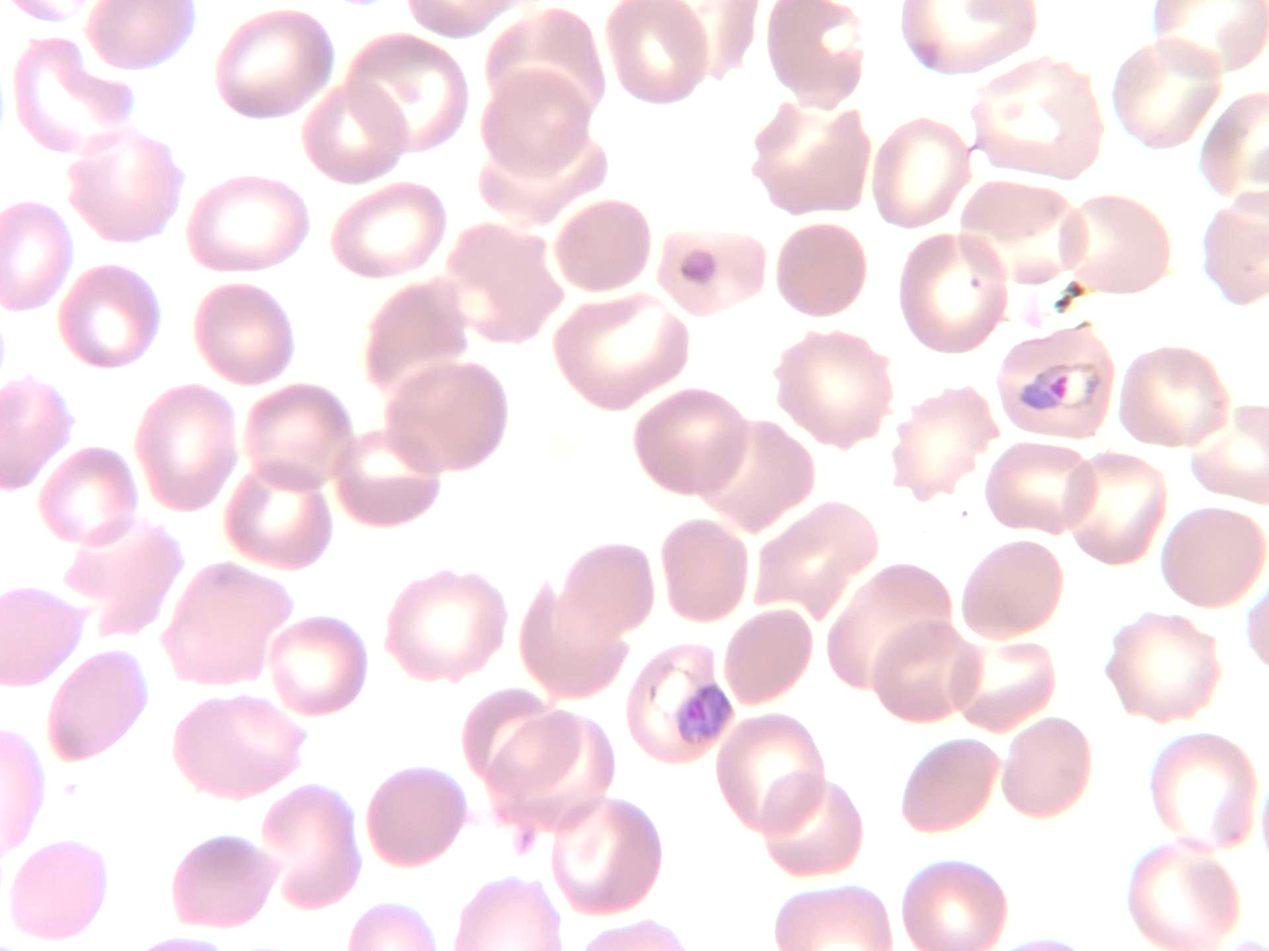Infected: (1000, 318, 1122, 448), (619, 642, 736, 766)
Uninfected: (974, 54, 1099, 180), (348, 34, 467, 158), (489, 714, 608, 835), (174, 558, 288, 683), (756, 499, 869, 621), (13, 40, 131, 155), (564, 298, 684, 411), (445, 225, 560, 342), (780, 340, 896, 453), (1124, 340, 1235, 458), (44, 646, 150, 768), (712, 721, 820, 840), (66, 516, 170, 639), (1150, 730, 1254, 853), (386, 364, 505, 470), (555, 789, 659, 910), (366, 276, 469, 398), (137, 384, 238, 508), (903, 228, 1009, 346), (176, 699, 301, 799), (214, 14, 335, 117), (965, 181, 1087, 283), (837, 567, 949, 678), (485, 67, 593, 179), (482, 5, 602, 105), (220, 461, 328, 570), (758, 100, 867, 208), (388, 573, 504, 674), (762, 0, 867, 111), (189, 175, 304, 276), (1132, 844, 1240, 951), (302, 73, 408, 182), (64, 133, 175, 237), (522, 582, 626, 691), (480, 135, 605, 224), (1066, 466, 1175, 568), (1062, 197, 1174, 296), (894, 391, 1000, 495), (634, 388, 743, 489), (1115, 29, 1210, 143), (864, 117, 966, 223), (705, 428, 812, 528), (269, 785, 355, 909), (1108, 615, 1210, 719), (163, 838, 278, 930), (767, 767, 868, 871), (59, 263, 159, 367), (247, 386, 351, 484), (465, 688, 571, 784), (335, 428, 439, 525), (269, 619, 369, 719), (335, 184, 438, 277), (659, 221, 767, 309), (370, 765, 461, 869), (198, 285, 294, 383), (44, 448, 137, 549), (1005, 719, 1096, 821), (555, 547, 659, 634), (11, 842, 104, 938), (610, 5, 706, 98), (1168, 503, 1257, 602), (661, 521, 751, 618), (987, 446, 1094, 525), (972, 538, 1062, 631), (560, 197, 646, 293), (903, 741, 993, 830), (723, 609, 811, 700), (908, 3, 1031, 68), (879, 633, 981, 711), (961, 648, 1058, 730), (780, 225, 865, 318)
